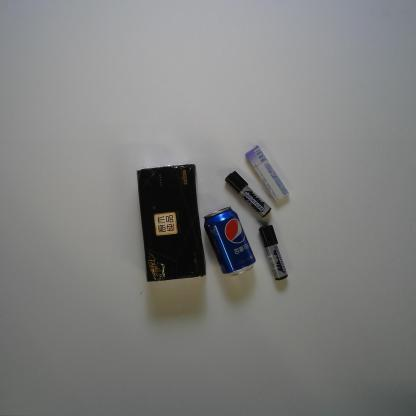Candy: (245, 145, 290, 201)
Drink: (203, 206, 256, 277)
Stationery: (224, 170, 272, 218), (258, 224, 288, 281)
Tissue: (137, 163, 206, 283)
